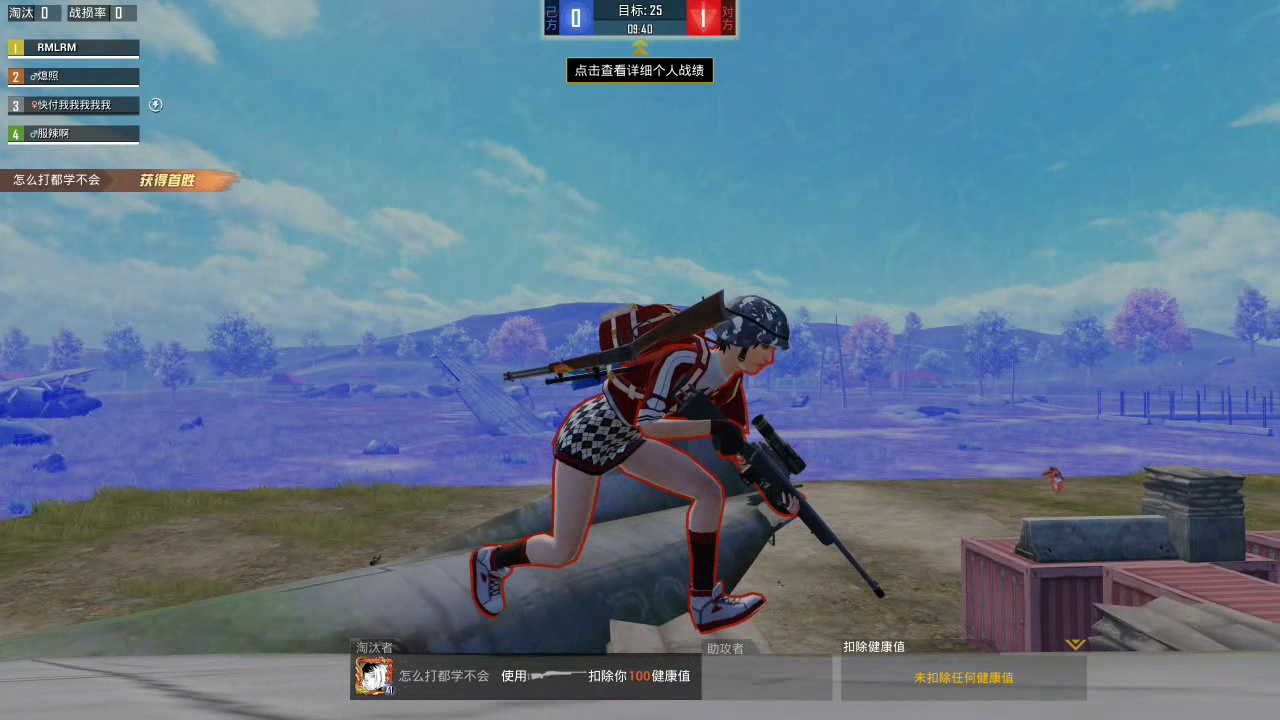enemy: (469, 295, 780, 628), (1045, 466, 1065, 496)
